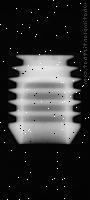Bicon: (8, 53, 81, 144)
